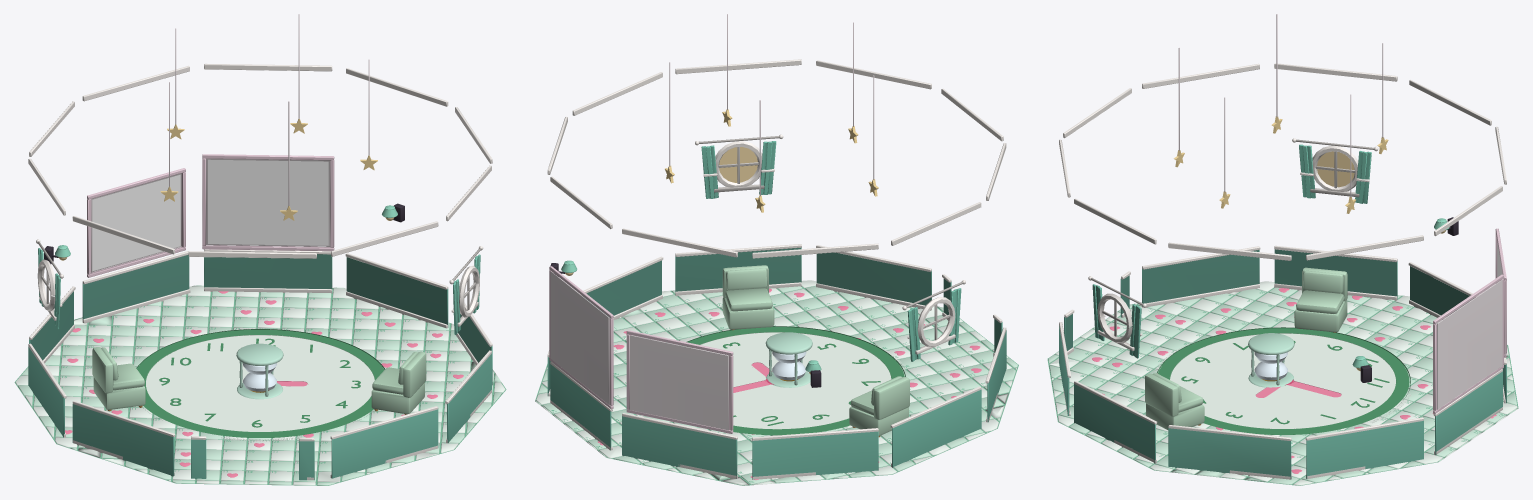
The model's file is zon_room_calendar.glb.
3 renders of one model, left to right at view 1: azimuth 30°, elevation 25°; view 2: azimuth 150°, elevation 25°; view 3: azimuth 270°, elevation 25°, orthographic.
Parts seen in each view (by area): view 1: SM_zon_room_calendar_room_floor_plaster_x0_zm1, SM_zon_room_calendar_room_floor_glaze_x0_zm1, SM_zon_room_calendar_room_rug_fabric_x0_zm1, SCREEN_fur_screen_calendar_dates__0, SCREEN_fur_screen_calendar_love__0, SM_zon_room_calendar_room_floor_fabric_x0_zm1, ANIM_fur_hourglass_calendar_glass__0, SM_zon_room_calendar_room_floor_gloss_x0_zm1; view 2: SM_zon_room_calendar_room_floor_plaster_x0_zm1, SM_zon_room_calendar_room_floor_glaze_x0_zm1, SM_zon_room_calendar_room_rug_fabric_x0_zm1, SM_zon_room_calendar_room_floor_fabric_x0_zm1, ANIM_fur_hourglass_calendar_glass__0, SM_zon_room_calendar_glow_vc_x0_zm1, SM_zon_room_calendar_room_floor_gloss_x0_zm1; view 3: SM_zon_room_calendar_room_floor_plaster_x0_zm1, SM_zon_room_calendar_room_floor_glaze_x0_zm1, SM_zon_room_calendar_room_rug_fabric_x0_zm1, SM_zon_room_calendar_room_floor_fabric_x0_zm1, ANIM_fur_hourglass_calendar_glass__0, SM_zon_room_calendar_glow_vc_x0_zm1, SM_zon_room_calendar_room_floor_gloss_x0_zm1.
Part boxes in pixels (bbox=[...]): SM_zon_room_calendar_room_floor_plaster_x0_zm1: bbox=[28, 14, 492, 480]; SM_zon_room_calendar_room_floor_glaze_x0_zm1: bbox=[14, 285, 506, 485]; SM_zon_room_calendar_room_rug_fabric_x0_zm1: bbox=[136, 328, 384, 441]; SCREEN_fur_screen_calendar_dates__0: bbox=[208, 159, 328, 245]; SCREEN_fur_screen_calendar_love__0: bbox=[92, 174, 180, 271]; SM_zon_room_calendar_room_floor_fabric_x0_zm1: bbox=[92, 347, 426, 414]; ANIM_fur_hourglass_calendar_glass__0: bbox=[236, 343, 283, 399]; SM_zon_room_calendar_room_floor_gloss_x0_zm1: bbox=[65, 291, 463, 477]; SM_zon_room_calendar_room_floor_plaster_x0_zm1: bbox=[547, 14, 1006, 479]; SM_zon_room_calendar_room_floor_glaze_x0_zm1: bbox=[535, 280, 1018, 485]; SM_zon_room_calendar_room_rug_fabric_x0_zm1: bbox=[682, 326, 905, 435]; SM_zon_room_calendar_room_floor_fabric_x0_zm1: bbox=[722, 265, 909, 435]; ANIM_fur_hourglass_calendar_glass__0: bbox=[765, 332, 812, 387]; SM_zon_room_calendar_glow_vc_x0_zm1: bbox=[565, 147, 810, 374]; SM_zon_room_calendar_room_floor_gloss_x0_zm1: bbox=[598, 288, 981, 479]; SM_zon_room_calendar_room_floor_plaster_x0_zm1: bbox=[1059, 14, 1506, 479]; SM_zon_room_calendar_room_floor_glaze_x0_zm1: bbox=[1047, 281, 1518, 485]; SM_zon_room_calendar_room_rug_fabric_x0_zm1: bbox=[1154, 327, 1411, 434]; SM_zon_room_calendar_room_floor_fabric_x0_zm1: bbox=[1145, 267, 1347, 429]; ANIM_fur_hourglass_calendar_glass__0: bbox=[1248, 333, 1294, 387]; SM_zon_room_calendar_glow_vc_x0_zm1: bbox=[1317, 151, 1445, 371]; SM_zon_room_calendar_room_floor_gloss_x0_zm1: bbox=[1092, 288, 1496, 473].
Size of the model in its own units: 10.57 by 7.83 by 10.29.
